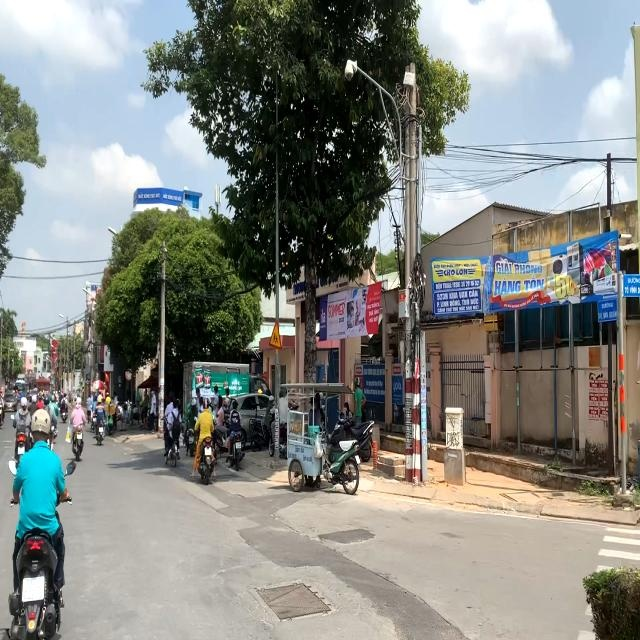bien_nguy_hiem: (268, 320, 283, 351)
